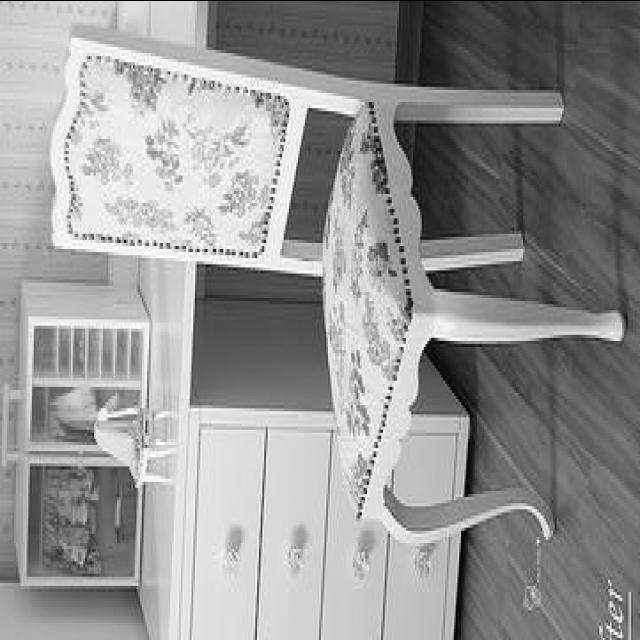chair: (49, 25, 624, 542)
